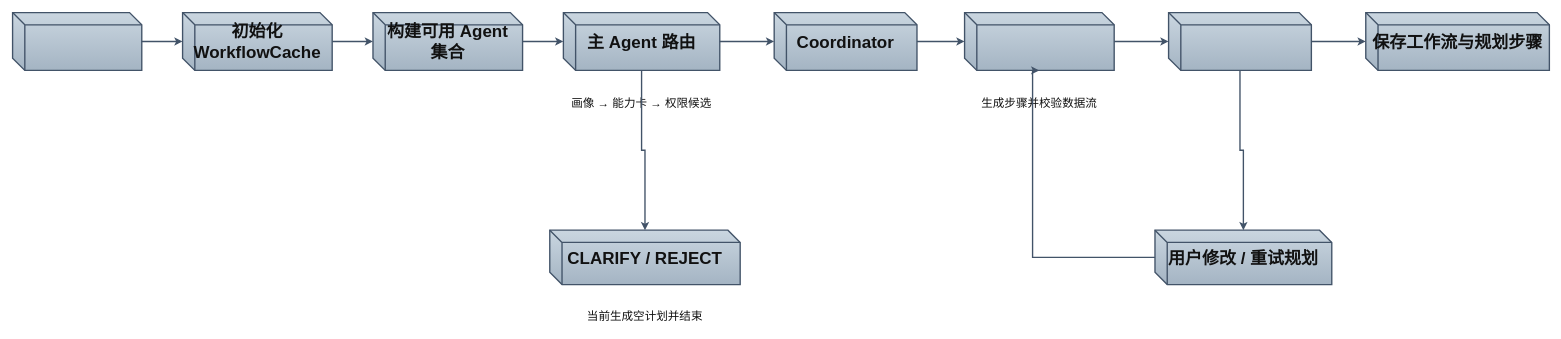
The diagram is 1561 pixels wide and 339 high, and some of its shapes have lost their labels. The shapes that lost their labels are listed below. From the top down, each one's box as (x1, y1, x2, y2) in pixels, then its label:
(12, 12, 142, 71): 用户任务
(964, 12, 1115, 71): Planner
(1168, 12, 1312, 71): Publisher
